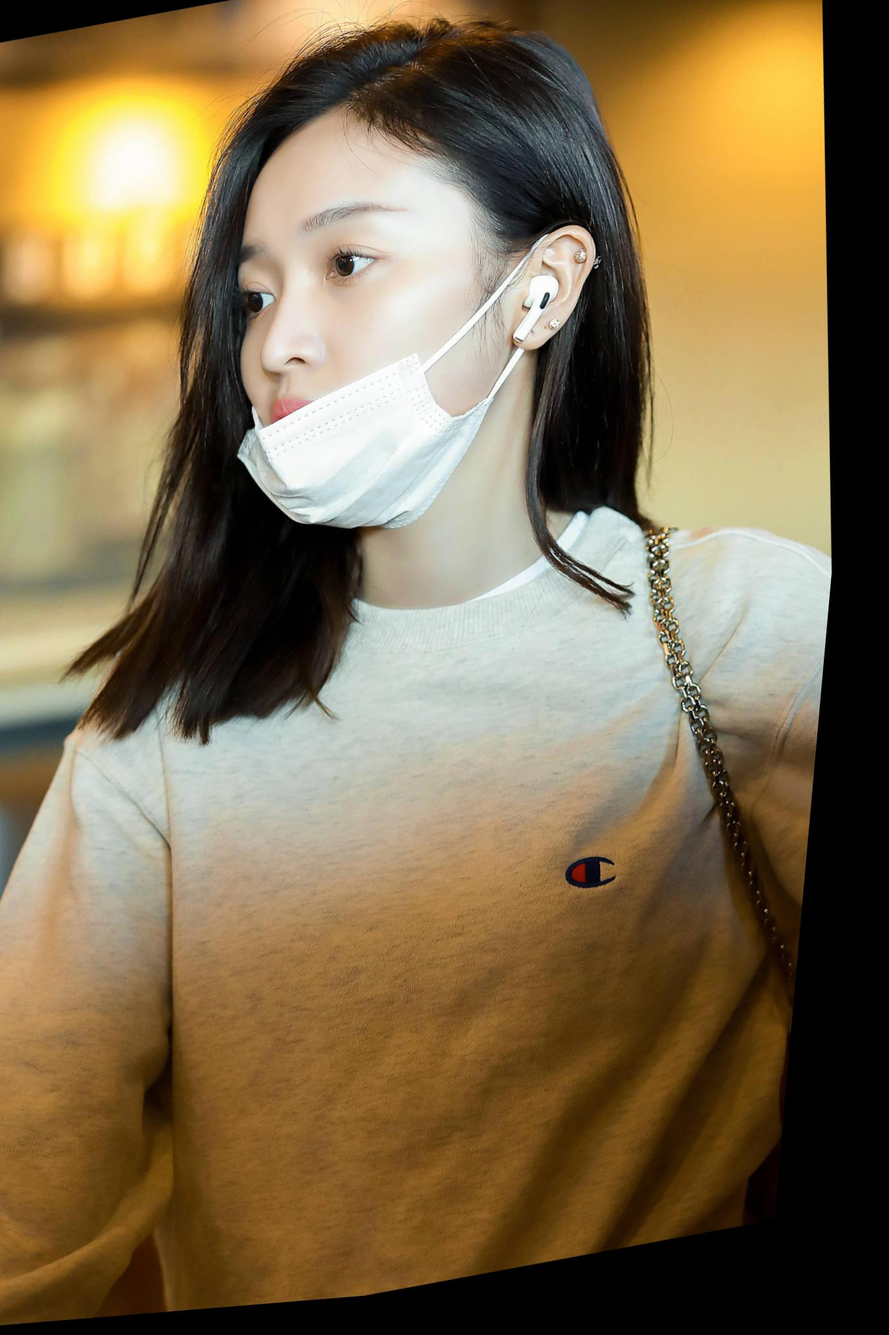WRONG: (210, 158, 492, 559)
